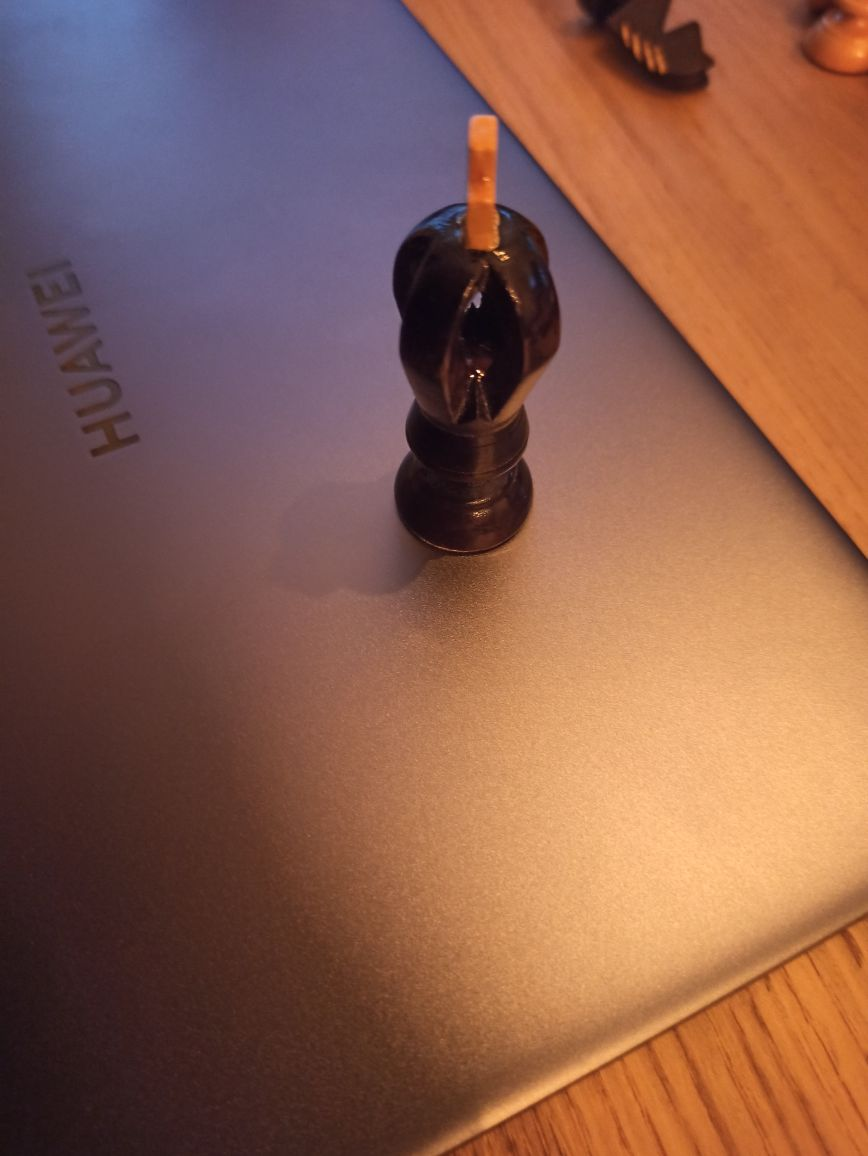bking: (389, 114, 564, 555)
